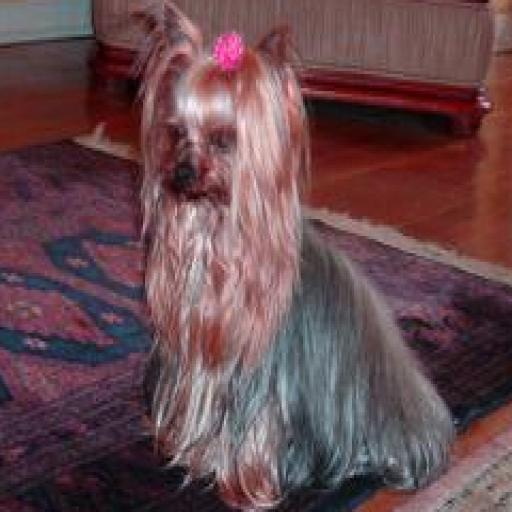dog_face: (129, 3, 293, 233)
